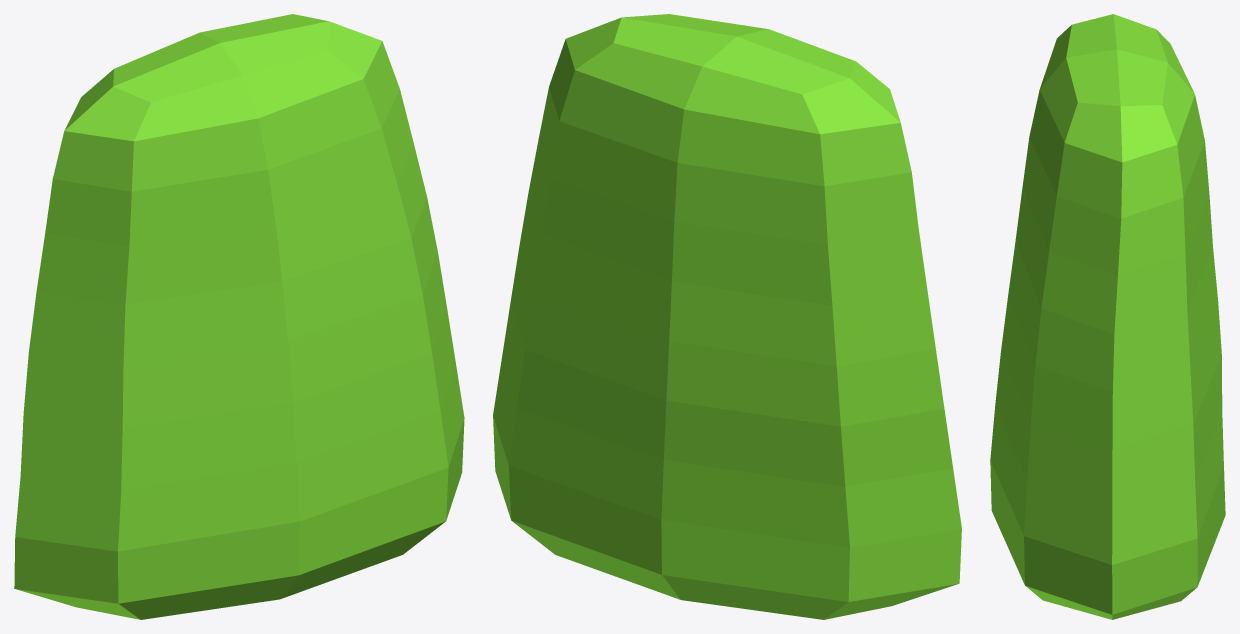
Rendered from SimpleStones.fbx.
3 renders of one model, left to right at view 1: azimuth 30°, elevation 25°; view 2: azimuth 150°, elevation 25°; view 3: azimuth 270°, elevation 25°, orthographic. The views are drawn at different scales.
Visible parts, largest first — view 1: Cube.001; view 2: Cube.001; view 3: Cube.001.
Part boxes in pixels (x1,y1,x2,y2): Cube.001: [14, 14, 464, 619]; Cube.001: [493, 14, 961, 619]; Cube.001: [990, 14, 1225, 619].
Size of the model in its own units: 483 by 534 by 231.
